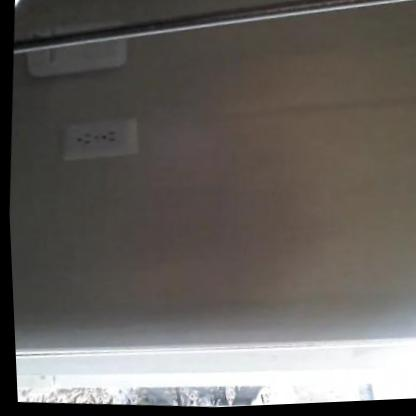OUTLET: (59, 115, 139, 164)
